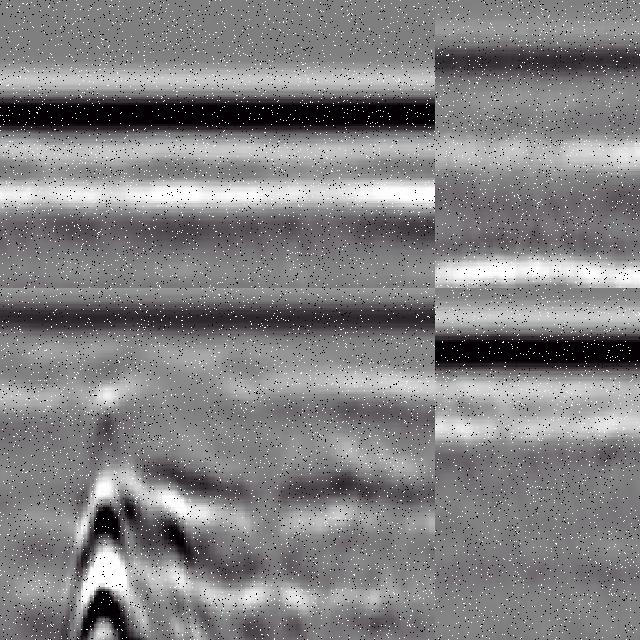loose: (53, 408, 377, 640)
